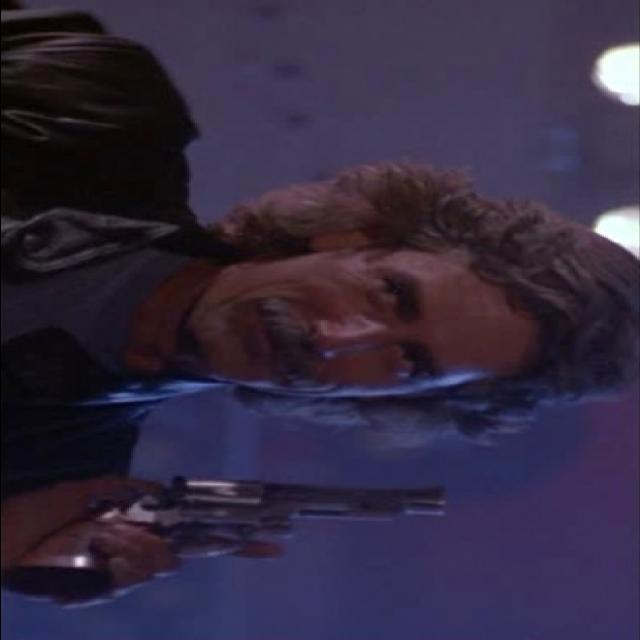weapons: (31, 457, 469, 598)
